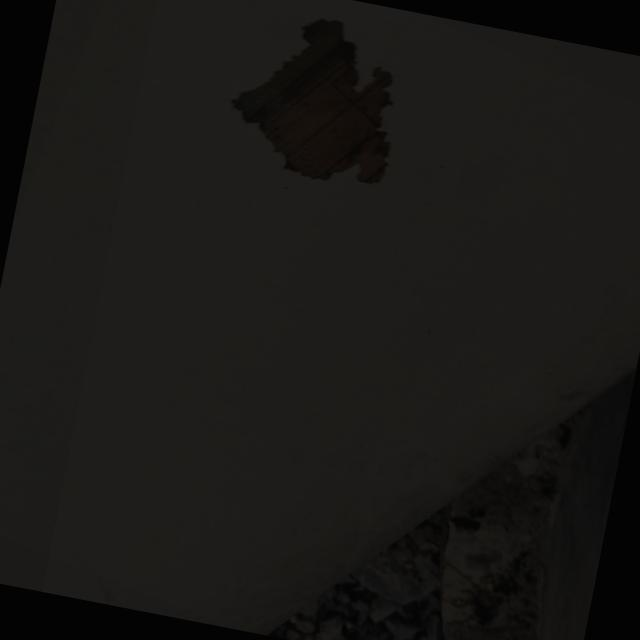surface_peeling: (215, 0, 424, 205)
